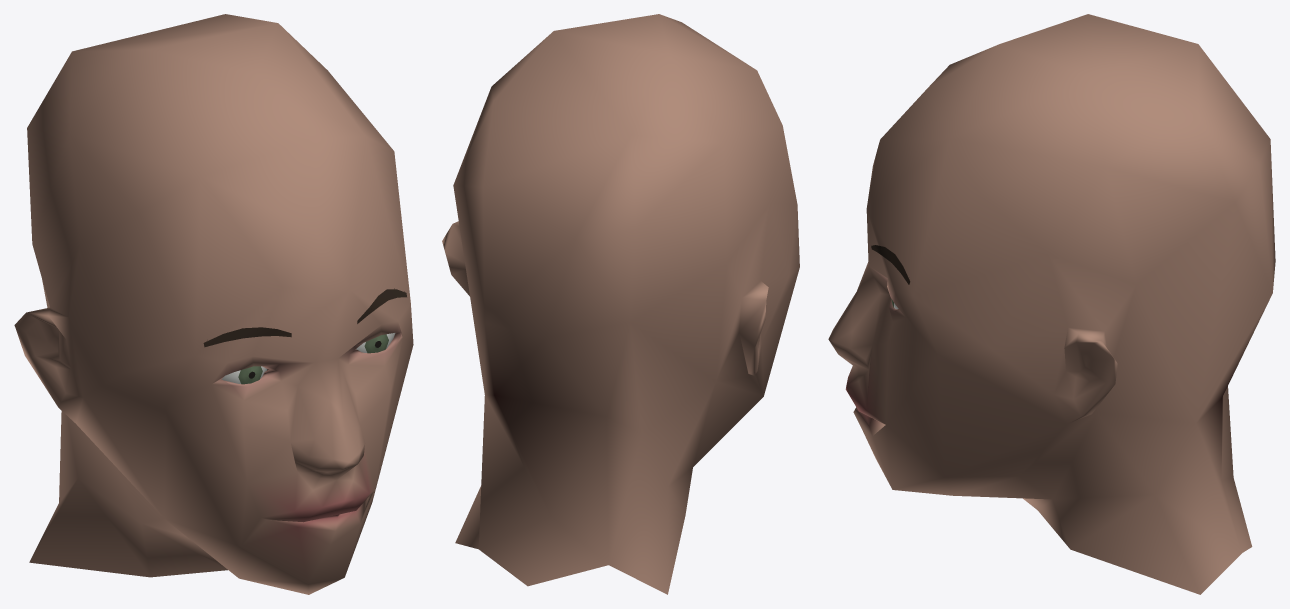
File: player-head-low.glb
3 renders of one model, left to right at view 1: azimuth 30°, elevation 25°; view 2: azimuth 150°, elevation 25°; view 3: azimuth 270°, elevation 25°, orthographic. The views are drawn at different scales.
Visible parts, largest first — view 1: Fictional anatomical player head low; view 2: Fictional anatomical player head low; view 3: Fictional anatomical player head low.
Boxes of the visible parts, x1=… form: Fictional anatomical player head low: x1=14, y1=14, x2=413, y2=594; Fictional anatomical player head low: x1=442, y1=14, x2=799, y2=594; Fictional anatomical player head low: x1=828, y1=14, x2=1275, y2=594.
Bounding box in the file's own units: 0.211 × 0.3041 × 0.2456.
